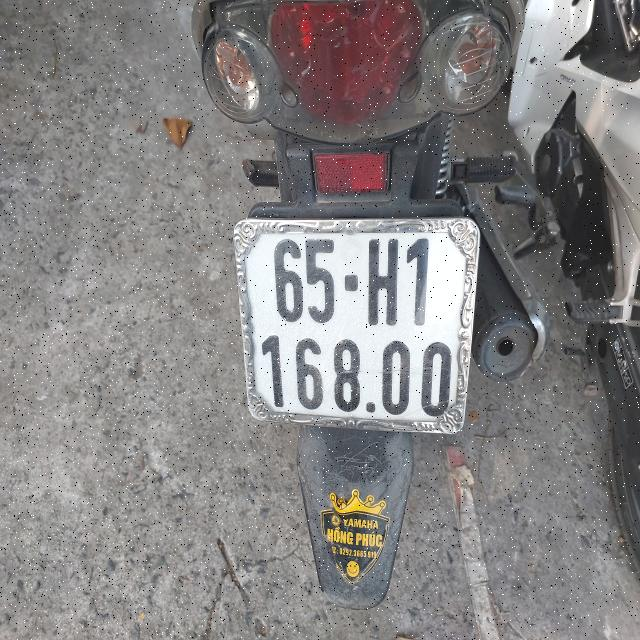0: (420, 339, 453, 421), (379, 339, 412, 415)
1: (404, 240, 433, 328), (262, 335, 288, 412)
5: (306, 235, 337, 328)
6: (273, 234, 304, 326), (296, 339, 325, 409)
8: (334, 335, 362, 413)
H: (365, 239, 400, 329)
